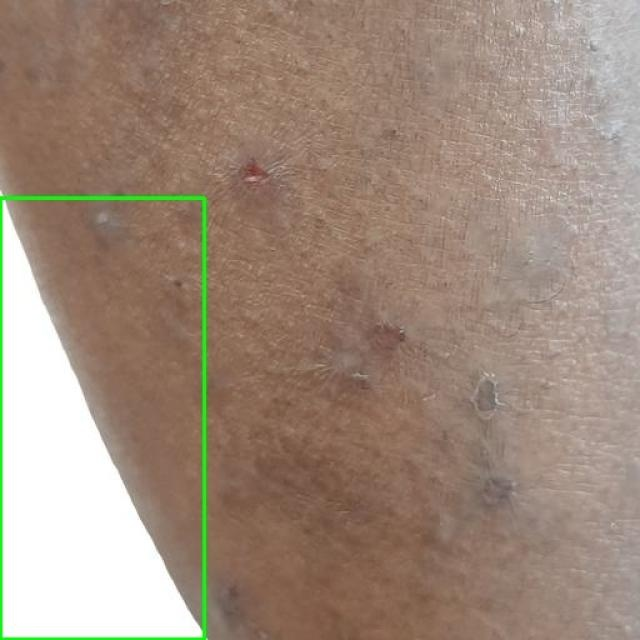Atopic Dermatitis: (0, 198, 204, 639)
